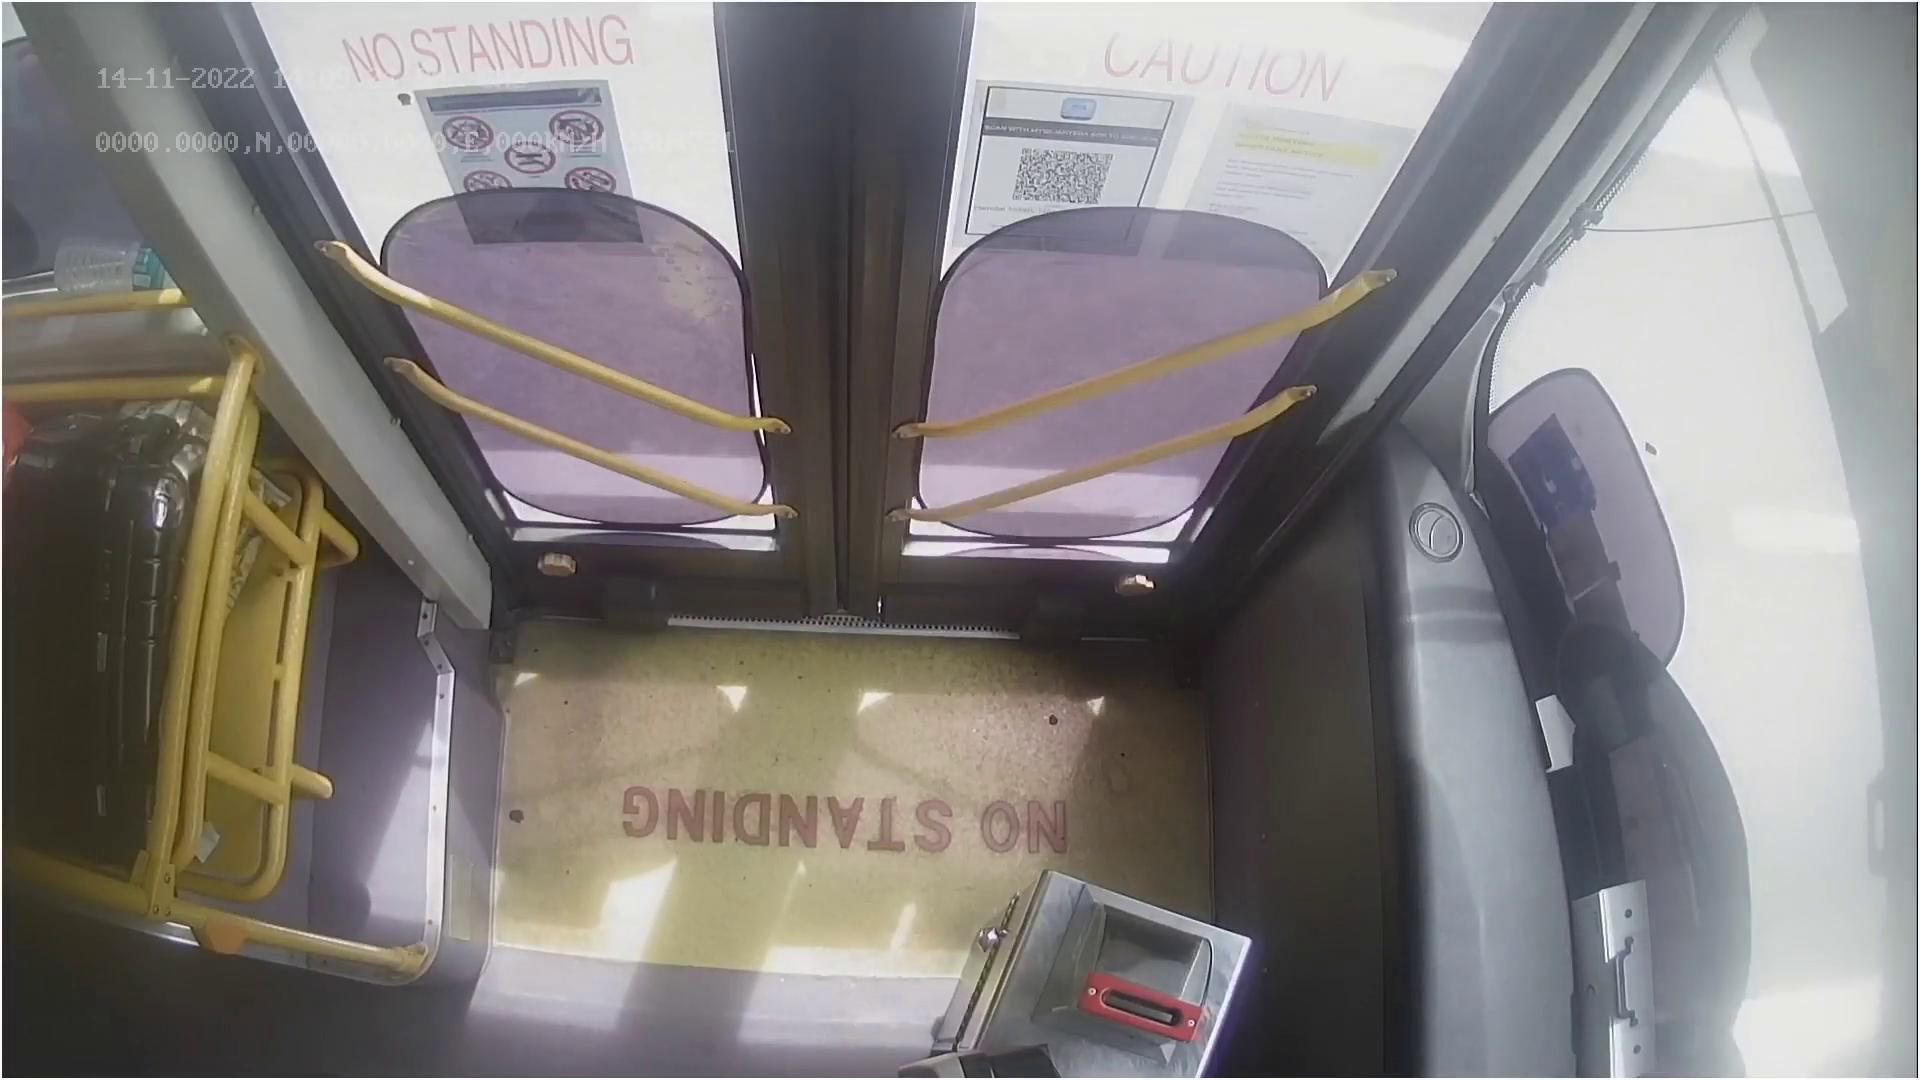close: (286, 0, 1445, 160)
